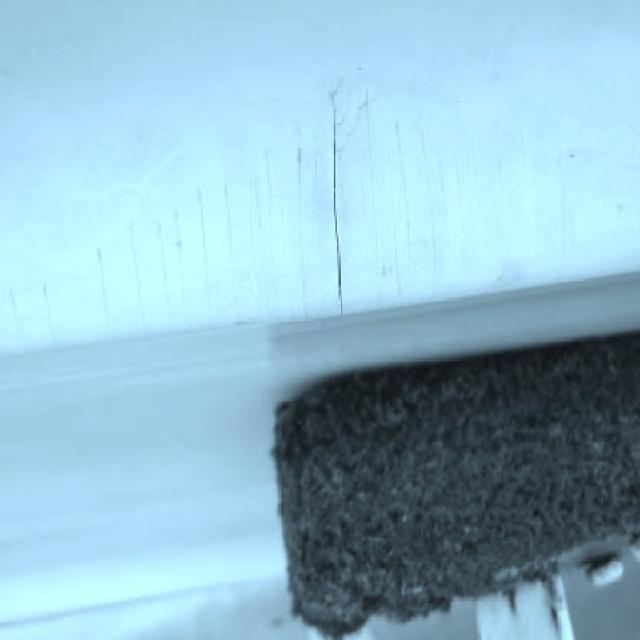crack: (331, 100, 347, 317)
